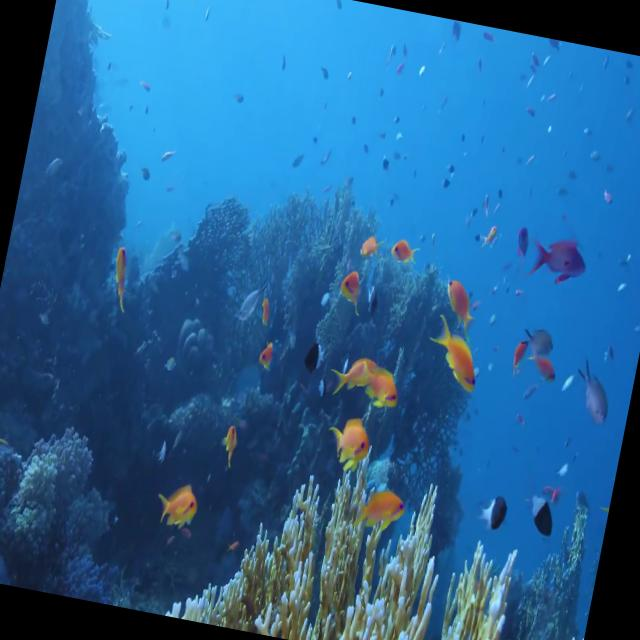fish: (422, 314, 486, 393), (526, 230, 588, 290), (324, 414, 376, 484), (353, 484, 410, 540), (435, 276, 483, 332), (352, 362, 404, 412), (154, 484, 200, 534), (335, 267, 368, 317)
